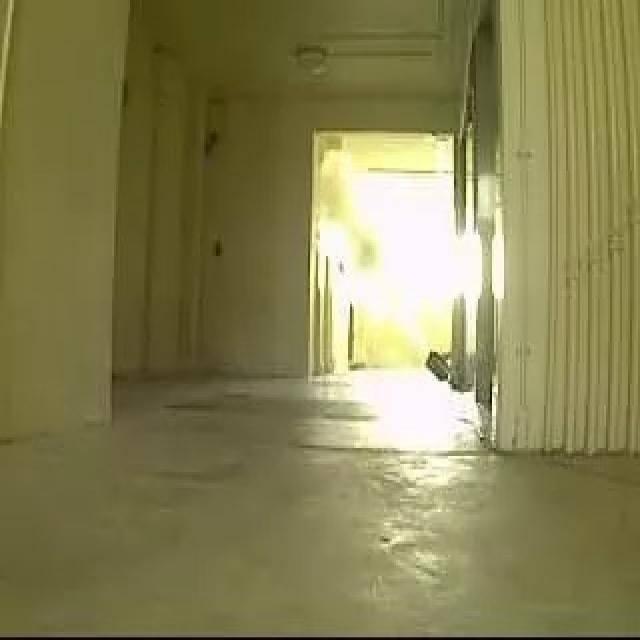smoke: (302, 88, 362, 256)
